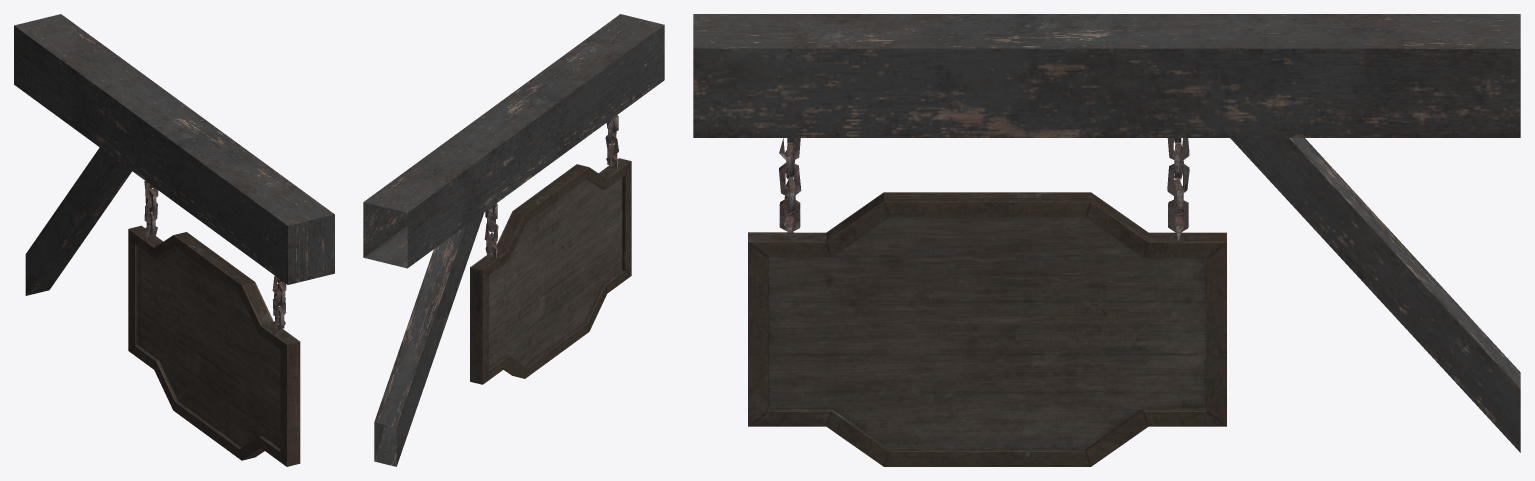
Rendered from SM_signboard_01.fbx.
3 renders of one model, left to right at view 1: azimuth 30°, elevation 25°; view 2: azimuth 150°, elevation 25°; view 3: azimuth 270°, elevation 25°, orthographic. The views are drawn at different scales.
Visible parts, largest first — view 1: SM_signboard_01_LOD0; view 2: SM_signboard_01_LOD0; view 3: SM_signboard_01_LOD0.
Boxes of the visible parts, bbox=[...] form: SM_signboard_01_LOD0: bbox=[14, 14, 334, 466]; SM_signboard_01_LOD0: bbox=[363, 14, 664, 466]; SM_signboard_01_LOD0: bbox=[693, 14, 1520, 466].
Size of the model in its own units: 25 by 252 by 145.
1 material, 1 textured.
